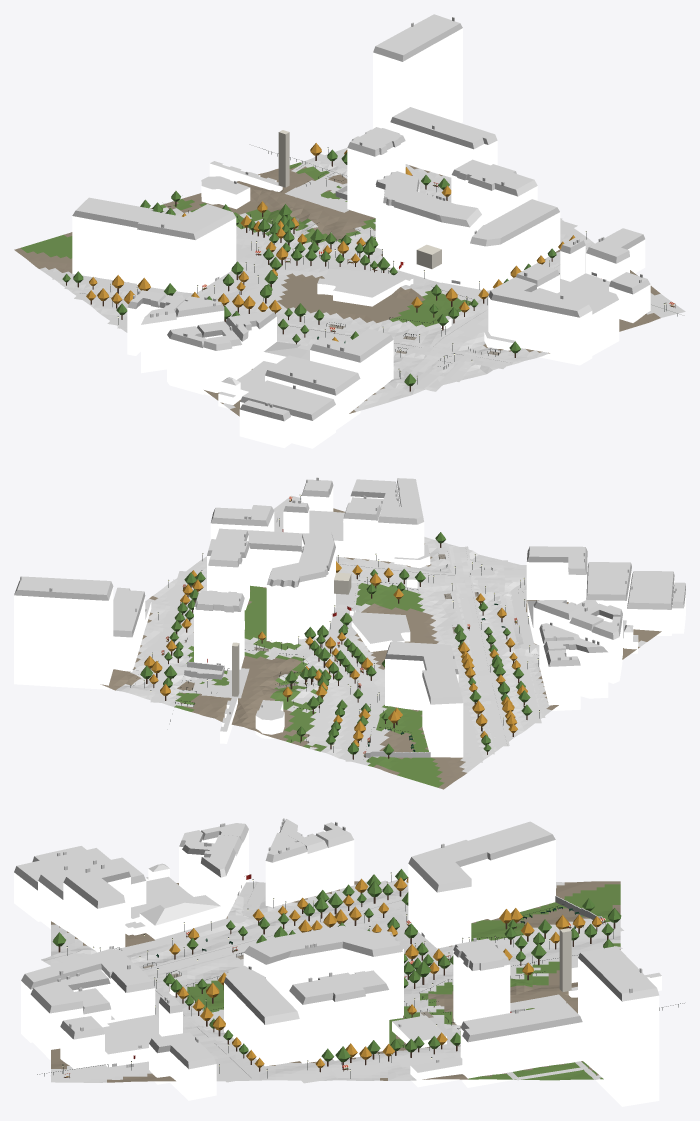
Rendered from zone_F5.glb.
The picture shows the model from 3 angles, top to bottom: view 1: azimuth 30°, elevation 25°; view 2: azimuth 150°, elevation 25°; view 3: azimuth 270°, elevation 25°; orthographic projection. The views are drawn at different scales.
Visible parts, largest first — view 1: zone_F5_batiments, zone_F5_terrain, zone_F5_sol_NOCOL, zone_F5_decor_NOCOL; view 2: zone_F5_batiments, zone_F5_terrain, zone_F5_sol_NOCOL, zone_F5_decor_NOCOL; view 3: zone_F5_batiments, zone_F5_terrain, zone_F5_sol_NOCOL, zone_F5_decor_NOCOL.
Part boxes in pixels (bbox=[...]): zone_F5_batiments: bbox=[72, 14, 650, 448]; zone_F5_terrain: bbox=[14, 148, 685, 416]; zone_F5_sol_NOCOL: bbox=[52, 149, 682, 403]; zone_F5_decor_NOCOL: bbox=[62, 143, 677, 391]; zone_F5_batiments: bbox=[14, 477, 685, 757]; zone_F5_terrain: bbox=[100, 495, 661, 789]; zone_F5_sol_NOCOL: bbox=[129, 497, 545, 762]; zone_F5_decor_NOCOL: bbox=[130, 495, 539, 761]; zone_F5_batiments: bbox=[14, 818, 661, 1106]; zone_F5_terrain: bbox=[51, 881, 620, 1082]; zone_F5_sol_NOCOL: bbox=[41, 879, 623, 1083]; zone_F5_decor_NOCOL: bbox=[37, 869, 684, 1078].
Bounding box in the file's own units: 228 × 58.87 × 251.
